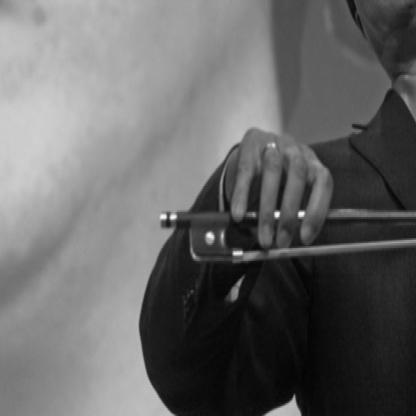good: (223, 108, 338, 263)
